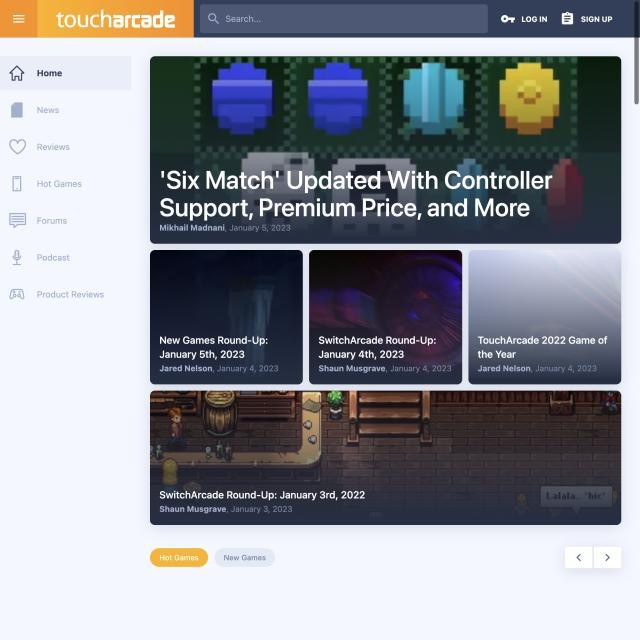input field: (198, 3, 491, 34)
